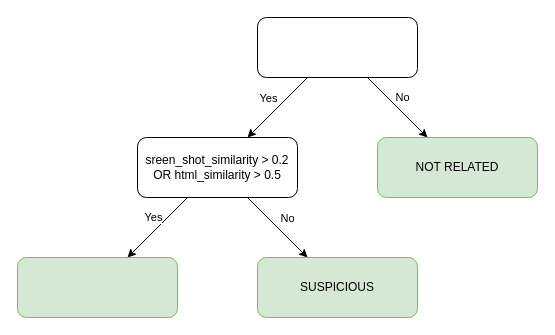
Image size: 555x335. Some labels were removed from this diagram. Here are the shapes that lost their labels. From the top down, the box of each, then its label:
(256, 16, 418, 78): sreen_shot_similarity > 0.03 AND html_similarity > 0.2
(16, 256, 178, 318): PHISHING
